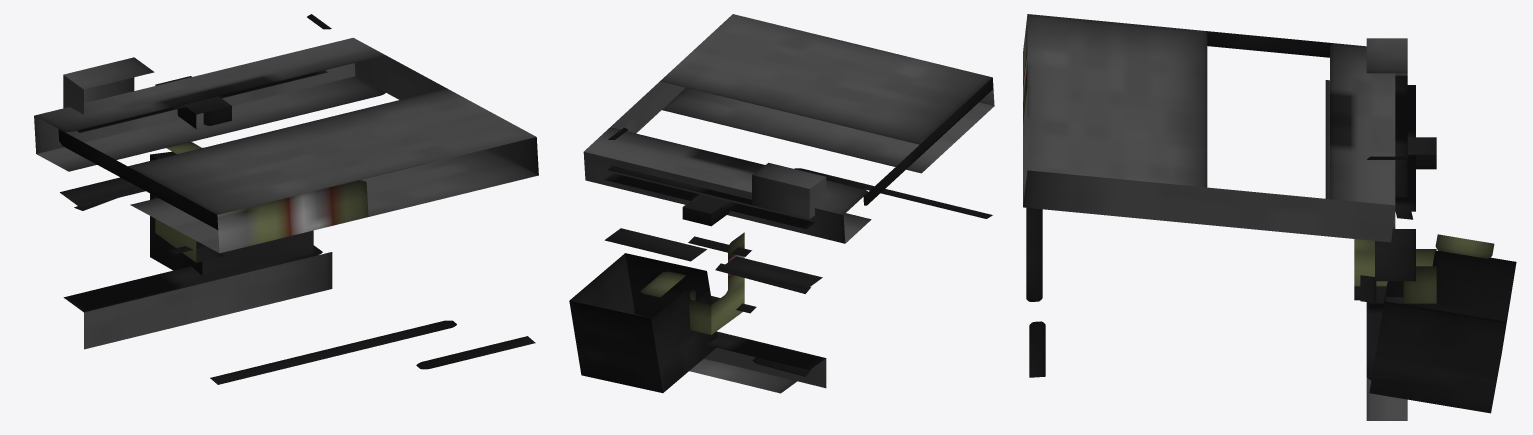
File: gas_mask.obj
The picture shows the model from 3 angles, left to right: view 1: azimuth 30°, elevation 25°; view 2: azimuth 150°, elevation 25°; view 3: azimuth 270°, elevation 25°; orthographic projection. The views are drawn at different scales.
Parts seen in each view (by area): view 1: Box_0, Box_10, Box_6, Box_2, Box_11, Box_5, Box_3; view 2: Box_0, Box_6, Box_10, Box_11, Box_5, Box_3, Box_4, Box_2, Box_7, Box_9; view 3: Box_0, Box_6, Box_5, Box_11, Box_4, Box_2, Box_10, Box_3.
Part boxes in pixels (box(x1,y1,x2,y2)): Box_0: box(34, 37, 538, 253); Box_10: box(63, 245, 332, 349); Box_6: box(150, 142, 313, 275); Box_2: box(210, 320, 535, 384); Box_11: box(63, 14, 331, 114); Box_5: box(155, 76, 231, 262); Box_3: box(60, 105, 185, 206); Box_0: box(583, 14, 994, 243); Box_6: box(569, 253, 717, 392); Box_10: box(633, 313, 826, 393); Box_11: box(608, 127, 826, 219); Box_5: box(682, 194, 744, 334); Box_3: box(720, 201, 822, 289); Box_4: box(604, 173, 706, 261); Box_2: box(794, 168, 992, 218); Box_7: box(715, 263, 810, 376); Box_9: box(688, 236, 756, 313); Box_0: box(1023, 14, 1395, 242); Box_6: box(1369, 234, 1516, 413); Box_5: box(1354, 137, 1436, 303); Box_11: box(1366, 38, 1407, 197); Box_4: box(1375, 154, 1415, 281); Box_2: box(1026, 207, 1045, 377); Box_10: box(1366, 302, 1407, 420); Box_3: box(1395, 85, 1415, 211).
Bounding box in the file's own units: 9 × 7.19 × 12.06.
